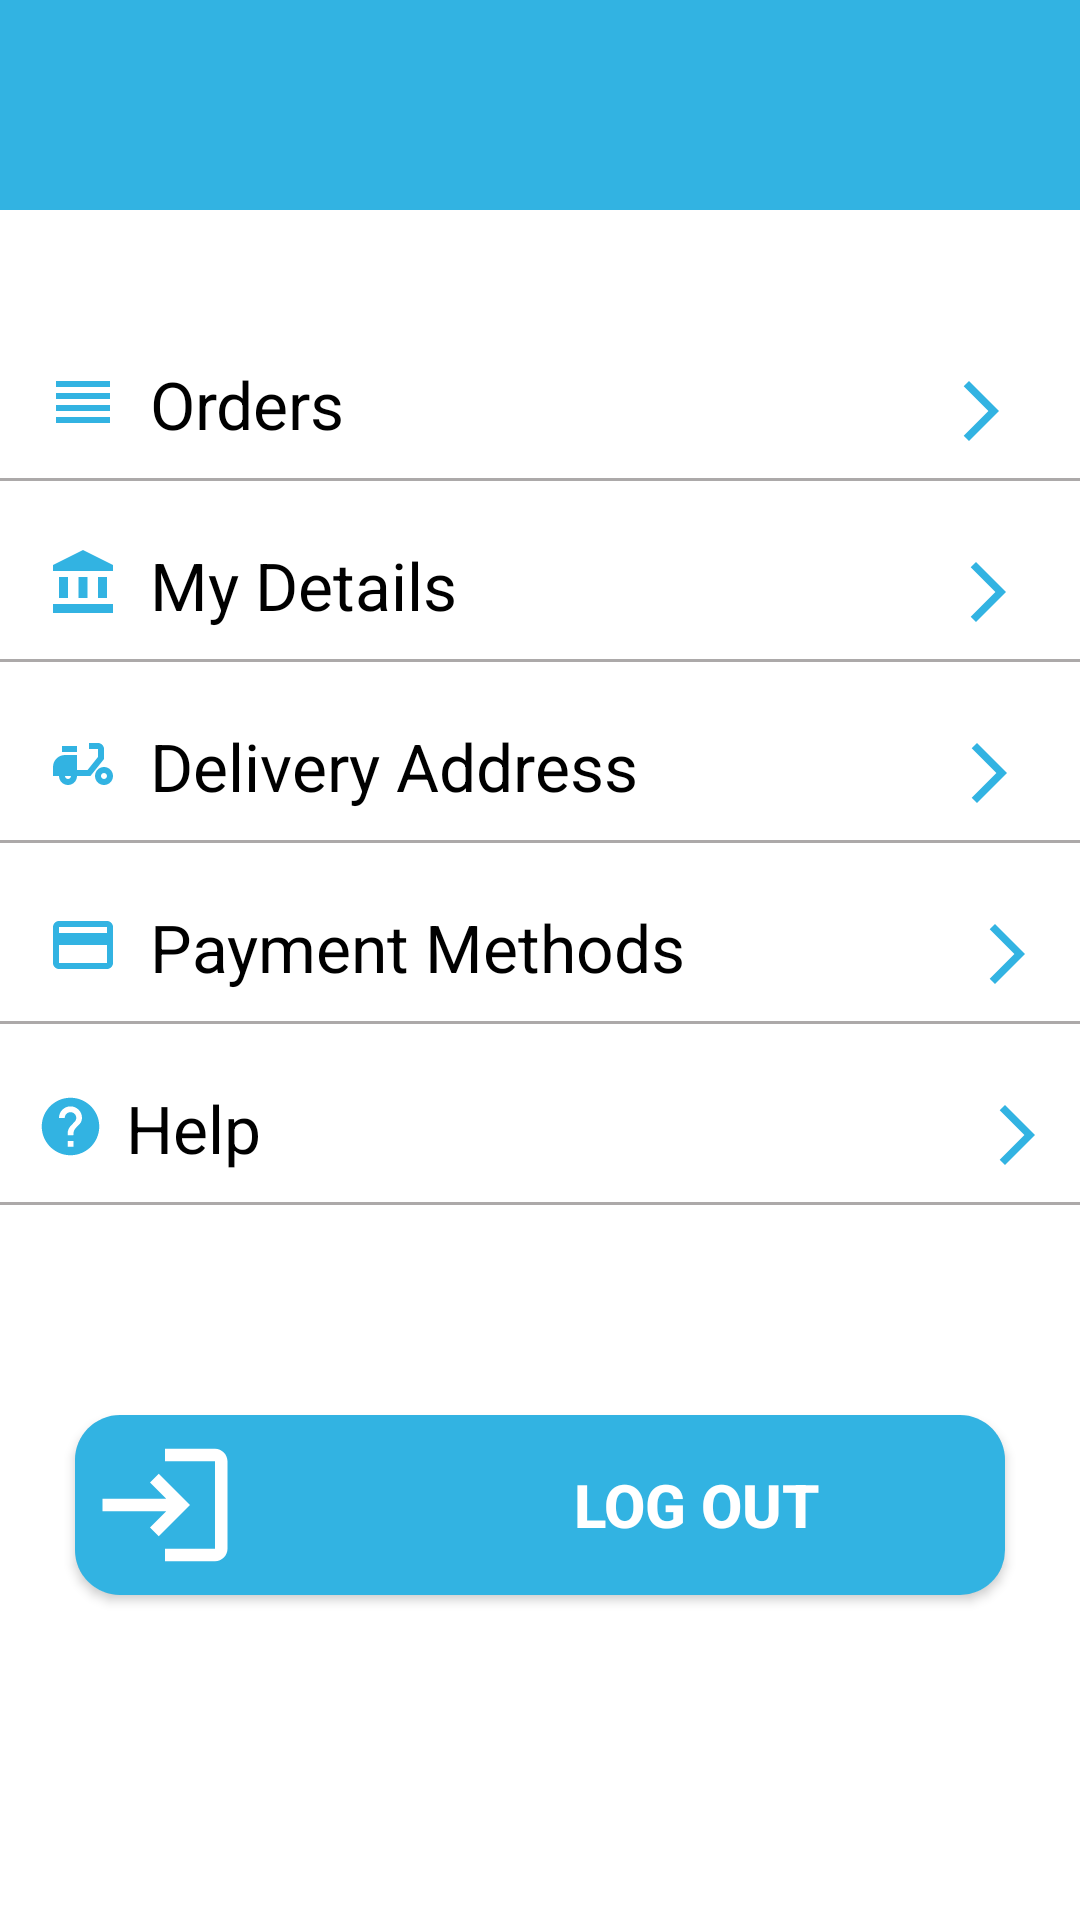

Screen size 1080px x 1920px. Icon name, then its center in pixels as [x,y]:
account: [83,581]
arrow: [981,411], [988,592], [989,773], [1007,954], [1017,1135]
